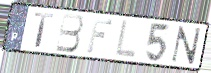5: (143, 22, 172, 63)
B: (54, 12, 85, 54)
F: (85, 16, 115, 54)
L: (113, 18, 139, 61)
N: (169, 25, 203, 66)
T: (33, 11, 56, 49)
